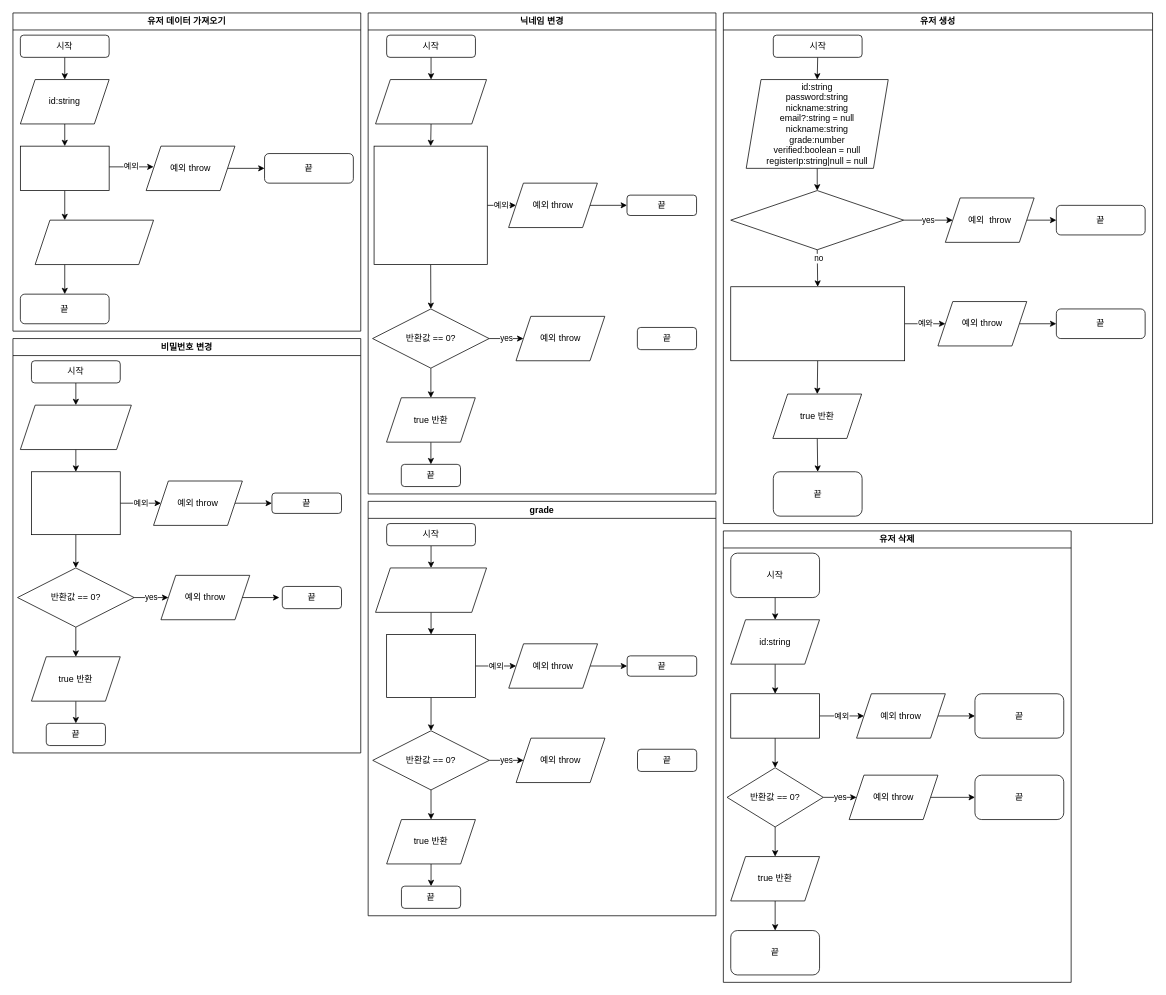
The diagram is 1166 pixels wide and 995 high, and some of its shapes have lost their labels. Each missing label, with the centre of its shape:
id, nickname, email이 중복되는가?: [817,220]
id:string password:string newGrade:number: [431,589]
id:string password:string newNickname:string: [431,101]
id:string password:string newPassword:string: [75,427]
id가 id, password가 password인 열의 grade를 newGrade로 변경: [430,665]
id가 id, password가 password인 열의 nickname을 newNickname으로 변경. nick_date를 now()로 변경: [430,205]
id가 id, password가 password인 열의 password를 newPassword로 변경: [75,503]
id가 id인 row 삭제: [775,715]
user 테이블에서 id가 id인 row 가져오기: [64,168]
결과 배열에서 0번째 요소 반환 (undefined일 수도): [94,242]
해당 변수를 해당하는 칼럼값으로 설정 register_date와 nick_date는 now()로 설정: [817,323]
